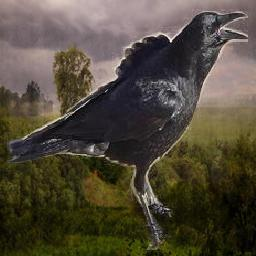Crow: (8, 10, 249, 251)
